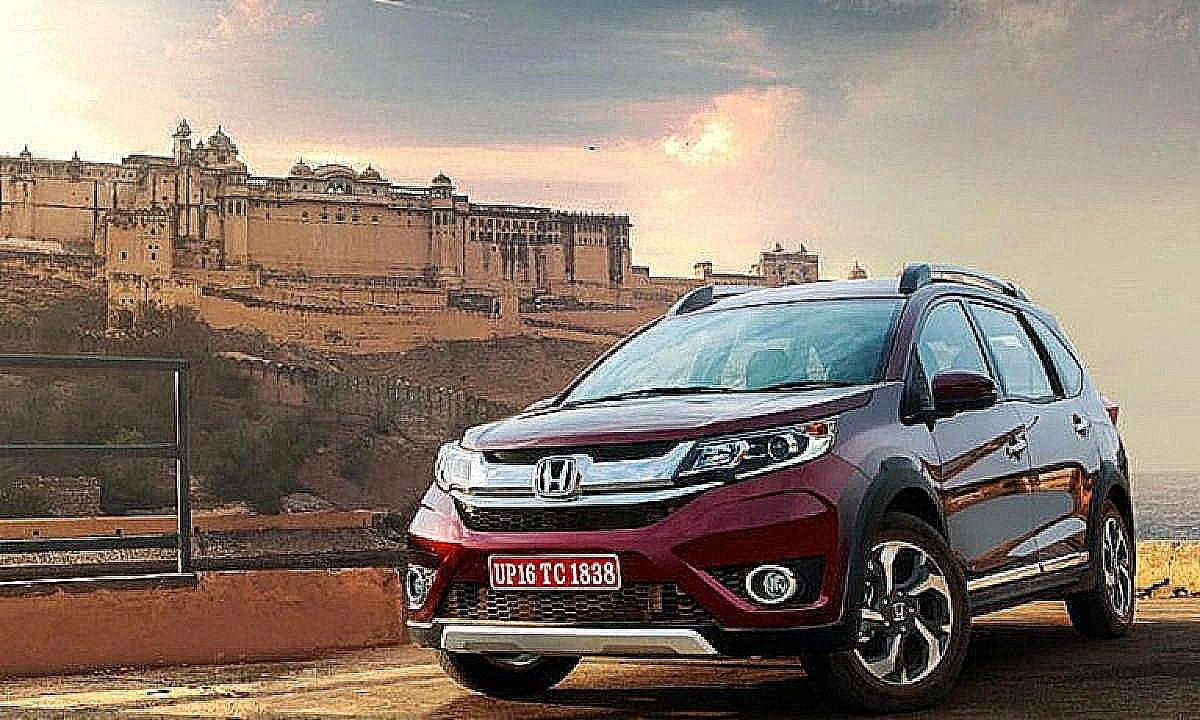Car hood: (457, 383, 881, 456)
Fender - -F-L-: (824, 371, 953, 553)
Fender - -R-L-: (1080, 393, 1129, 532)
Front bumper: (392, 463, 886, 664)
Headlight - -L-: (665, 410, 843, 502)
Headlight - -R-: (424, 434, 489, 502)
Passenger-s door - -F-L-: (917, 282, 1036, 594)
Passenger-s door - -R-L-: (986, 288, 1113, 582)
Rear light - -L-: (1093, 382, 1134, 442)
Side bumper - -L-: (948, 543, 1111, 632)
Side mirror - -L-: (914, 363, 1001, 437)
